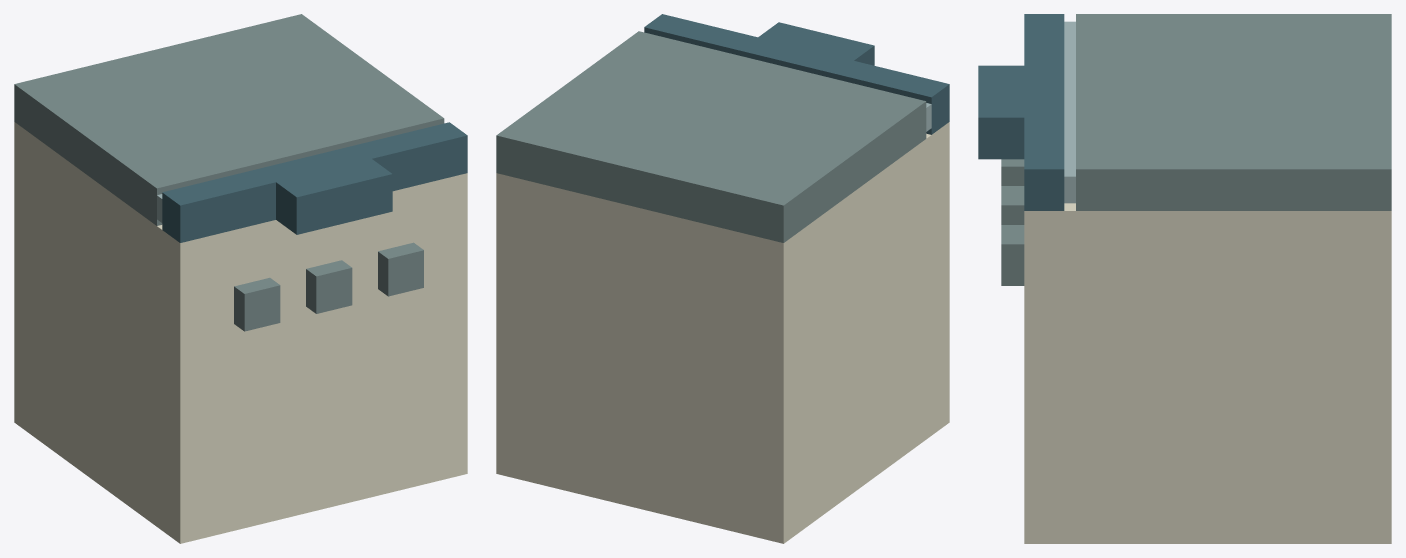
The model's file is FloorBlock-SmallOut.002.fbx.
3 renders of one model, left to right at view 1: azimuth 30°, elevation 25°; view 2: azimuth 150°, elevation 25°; view 3: azimuth 270°, elevation 25°, orthographic. The views are drawn at different scales.
Visible parts, largest first — view 1: FloorBlock-SmallOut.002; view 2: FloorBlock-SmallOut.002; view 3: FloorBlock-SmallOut.002.
Part boxes in pixels (x1,y1,x2,y2): FloorBlock-SmallOut.002: (14, 14, 467, 543); FloorBlock-SmallOut.002: (496, 14, 949, 543); FloorBlock-SmallOut.002: (978, 14, 1391, 543).
Size of the model in its own units: 800 by 900 by 900.
